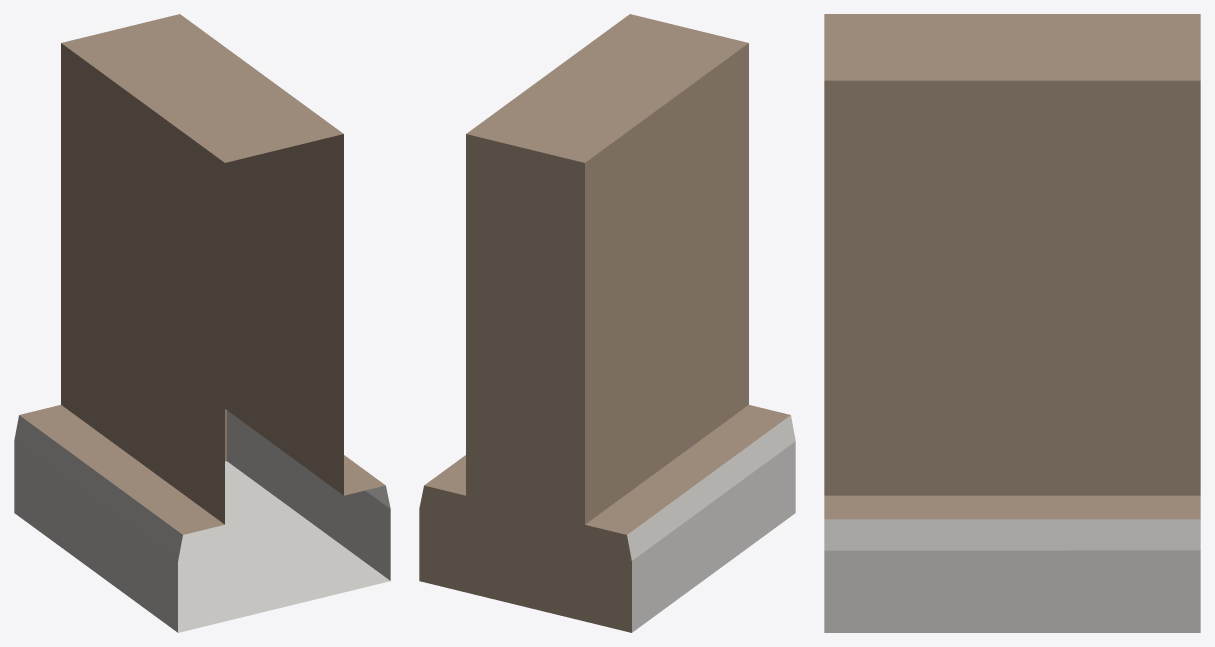
Rendered from ArcWall02_house_01.obj.
The picture shows the model from 3 angles, left to right: view 1: azimuth 30°, elevation 25°; view 2: azimuth 150°, elevation 25°; view 3: azimuth 270°, elevation 25°; orthographic projection. The views are drawn at different scales.
Parts seen in each view (by area): view 1: Arc02Wall01_Cube; view 2: Arc02Wall01_Cube; view 3: Arc02Wall01_Cube.
Part boxes in pixels (x1,y1,x2,y2): Arc02Wall01_Cube: (14,14,390,632); Arc02Wall01_Cube: (419,14,795,632); Arc02Wall01_Cube: (824,14,1200,632).
Size of the model in its own units: 0.8374 by 1.73 by 1.12.
